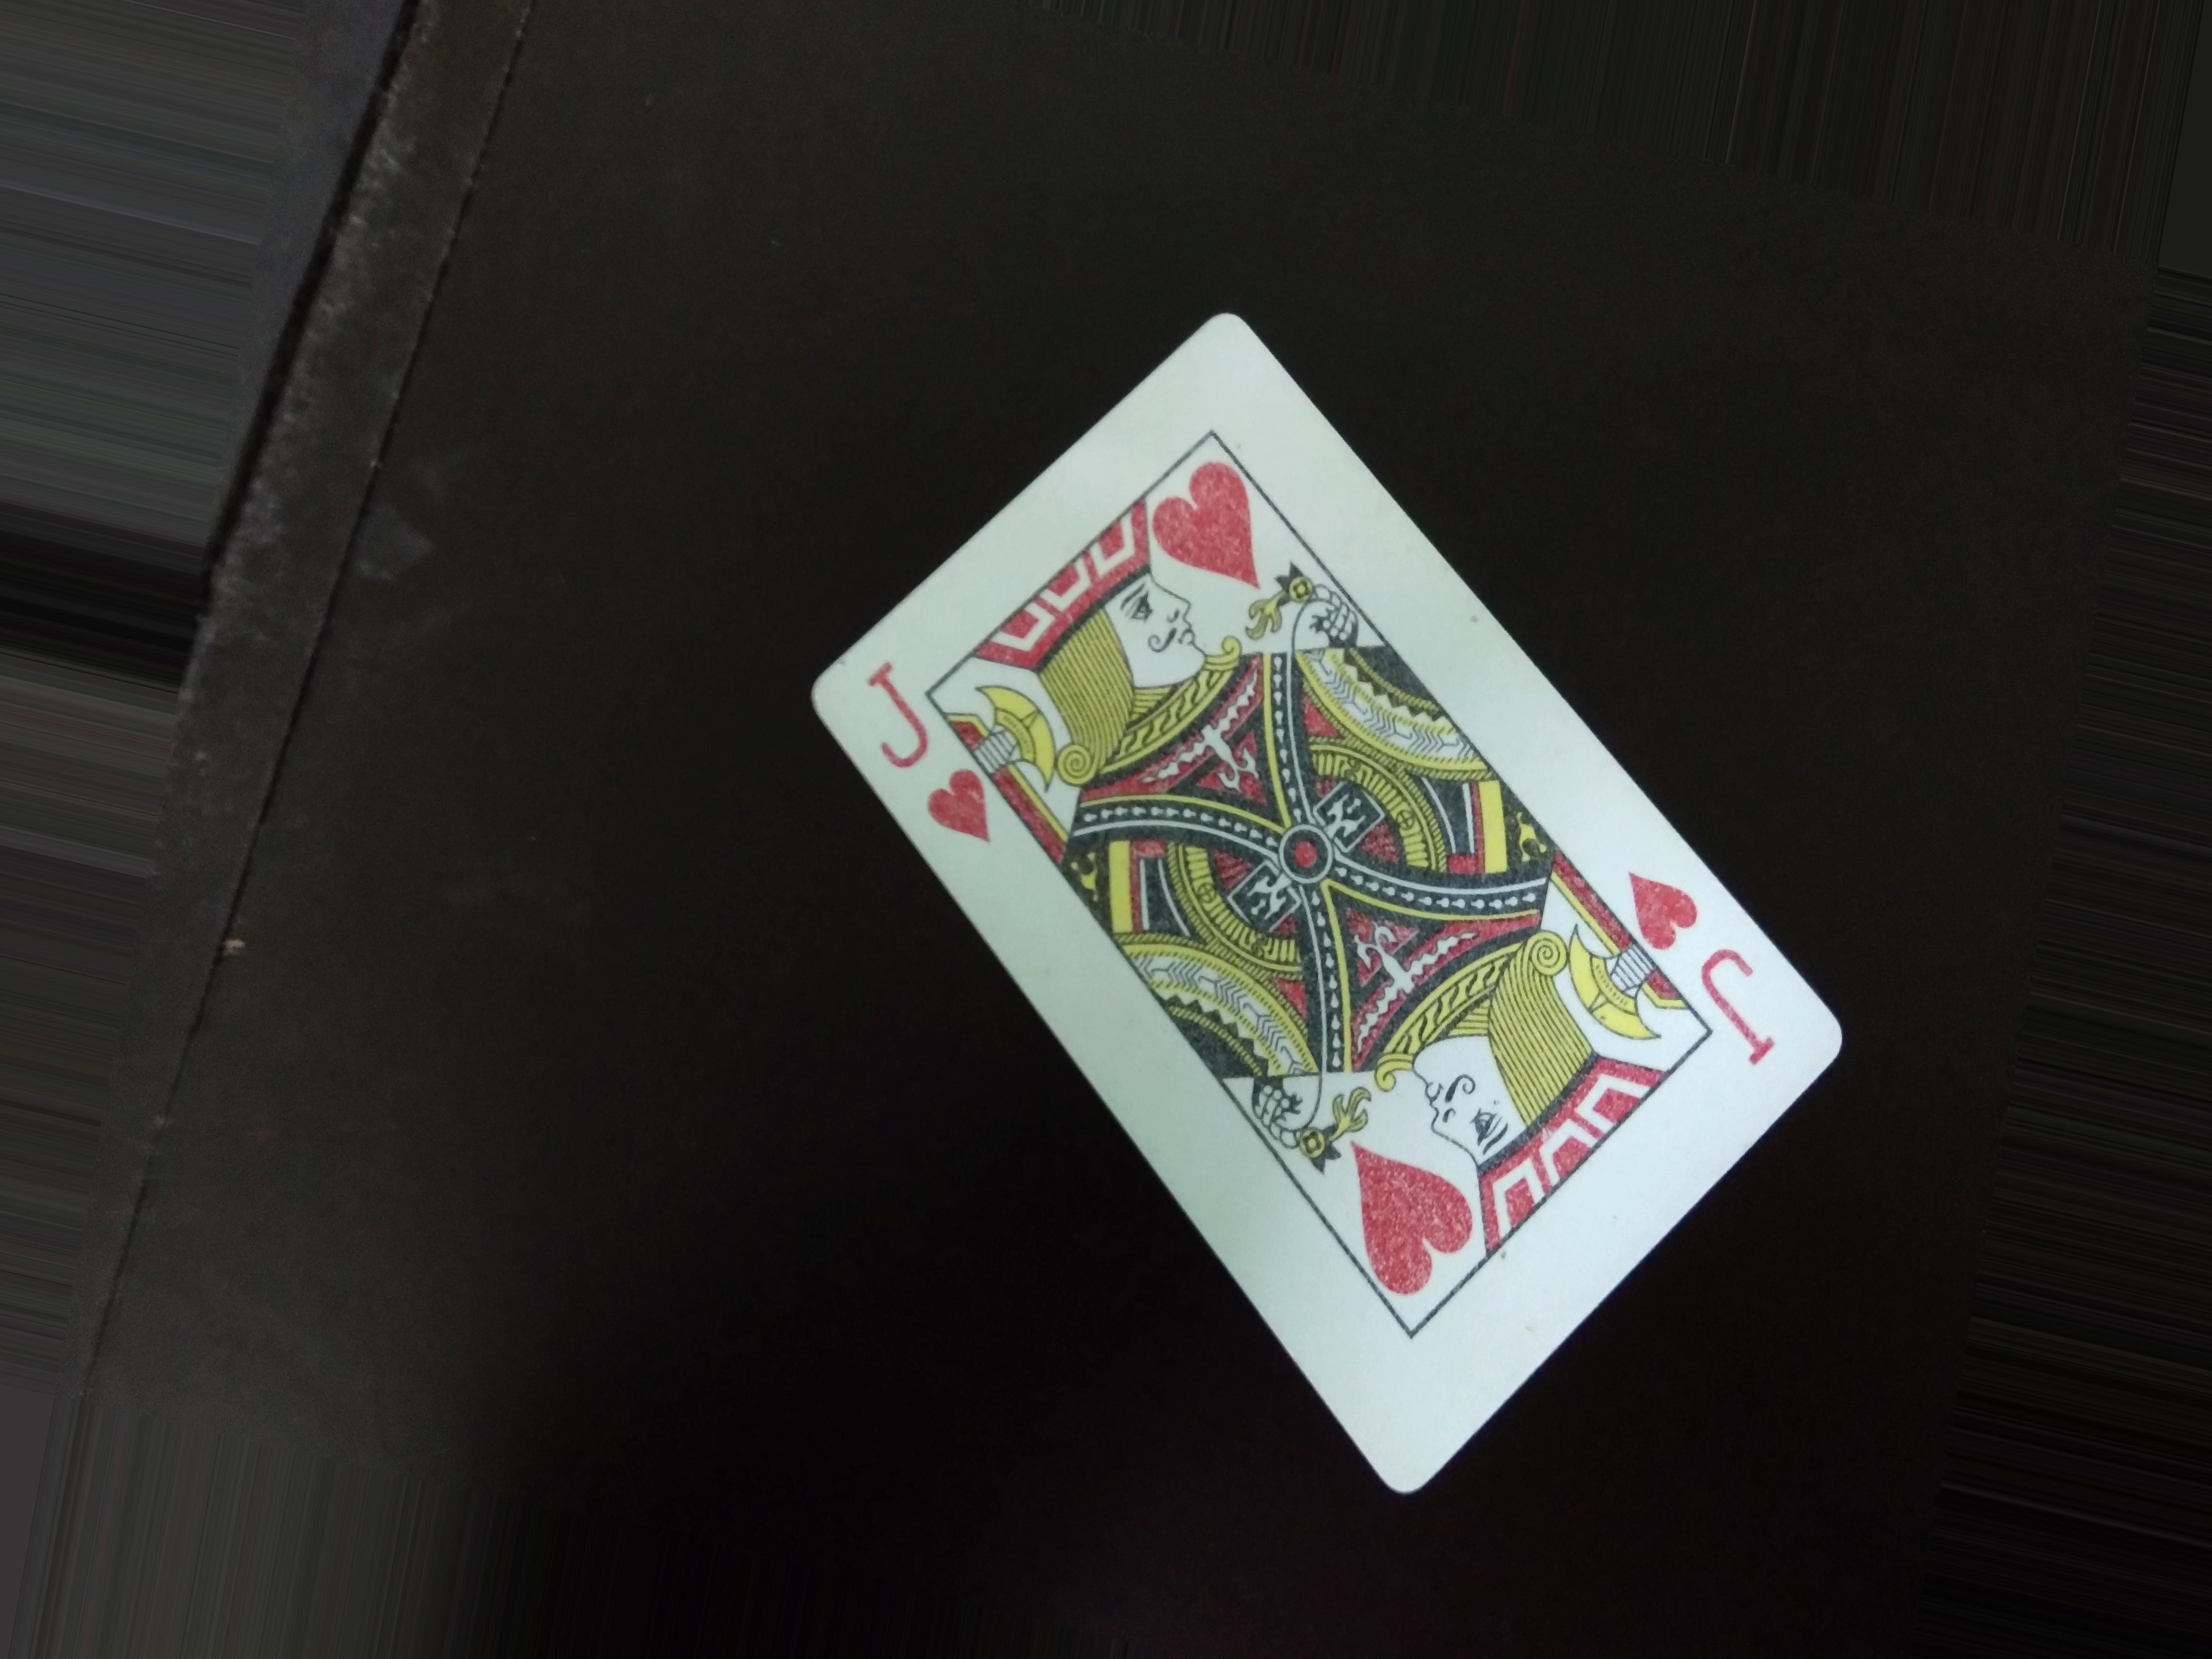JH: (866, 653, 979, 859)
